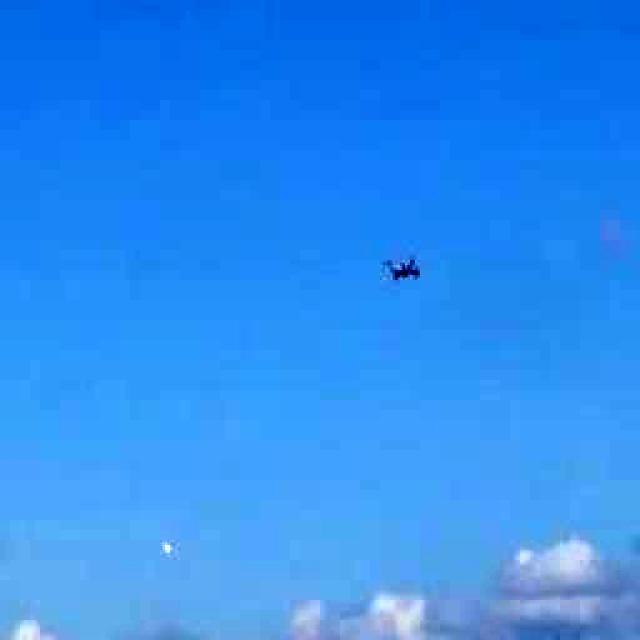bird: (329, 210, 489, 325), (142, 521, 202, 591)
